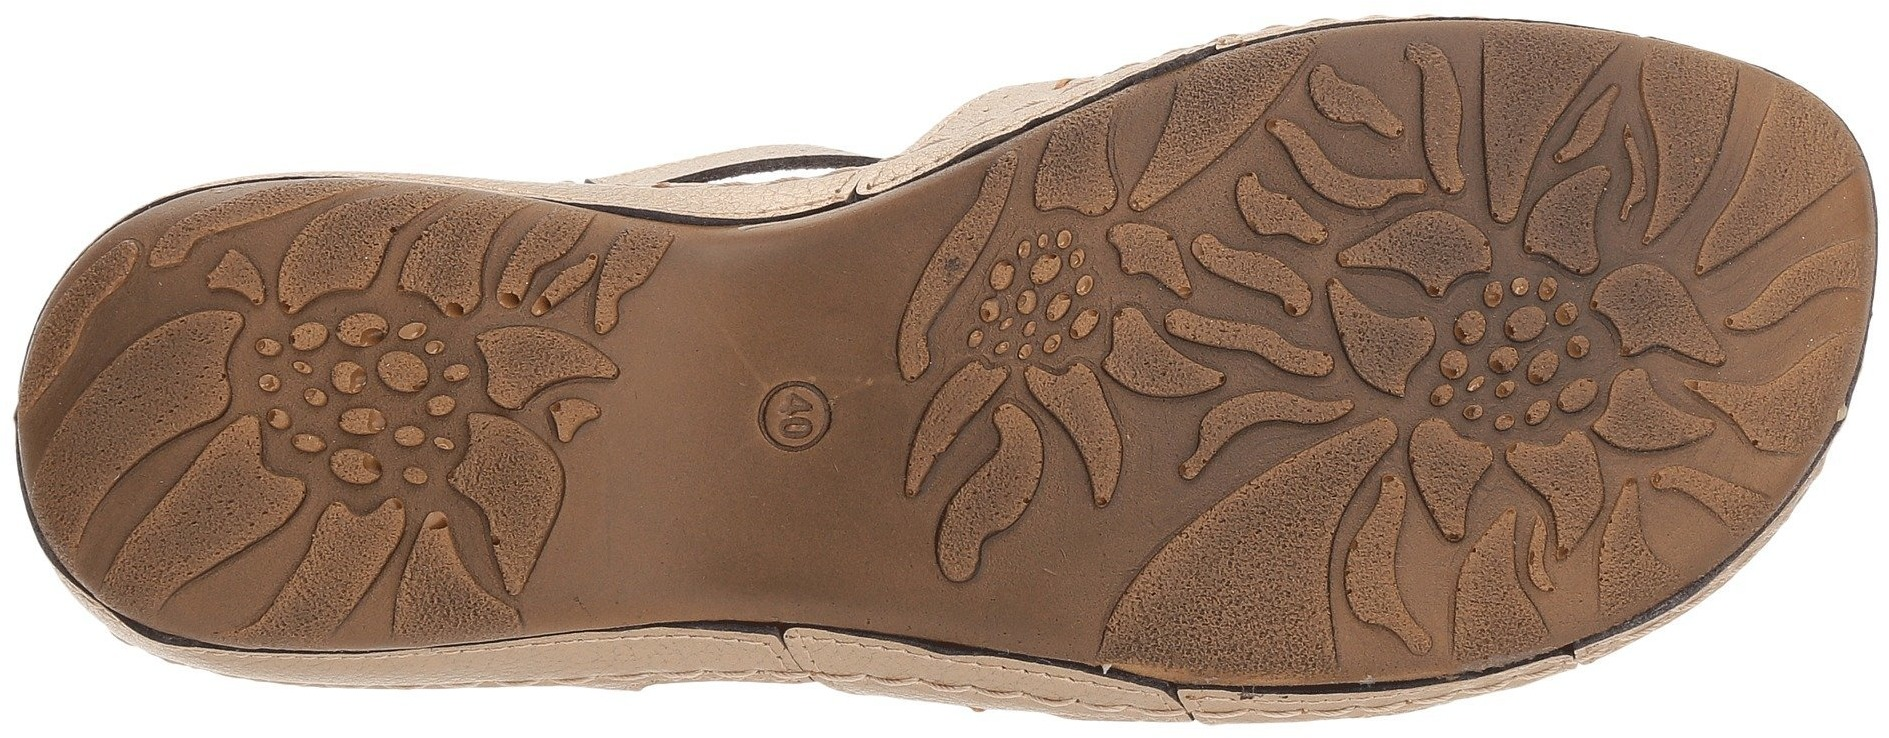circle: (248, 291, 477, 506), (1424, 274, 1613, 442), (960, 228, 1110, 371), (752, 374, 838, 460)
other: (714, 460, 872, 613), (583, 441, 742, 588), (698, 235, 845, 379), (1189, 522, 1318, 657)
quad: (1111, 166, 1438, 460), (49, 307, 267, 515)
text: (767, 388, 825, 445)
triangle: (1629, 125, 1847, 336), (1419, 26, 1623, 218), (1457, 430, 1646, 612)
